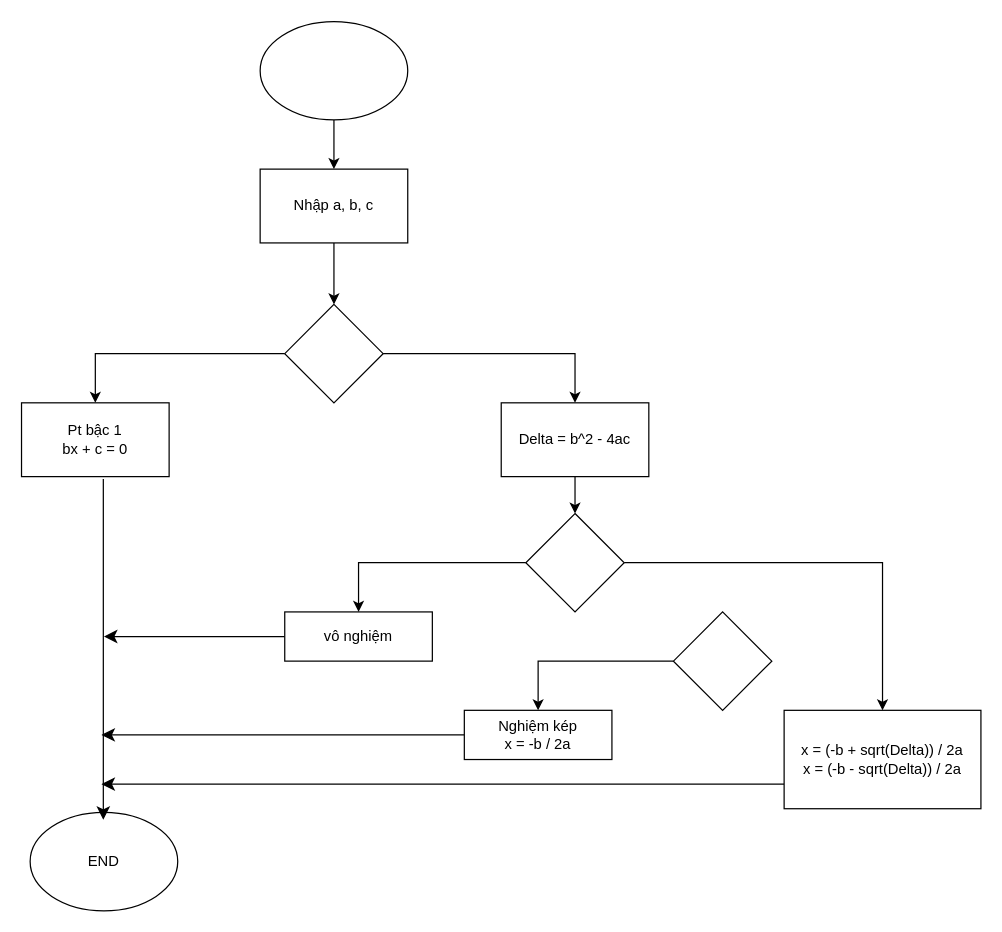
This 1002x932 diagram has some shape labels left out. Each missing label, with the box of its shape:
a = 0?: (284, 303, 383, 403)
Delta < 0: (525, 512, 624, 612)
Delta = 0: (672, 611, 772, 710)
Start: (259, 20, 408, 120)
